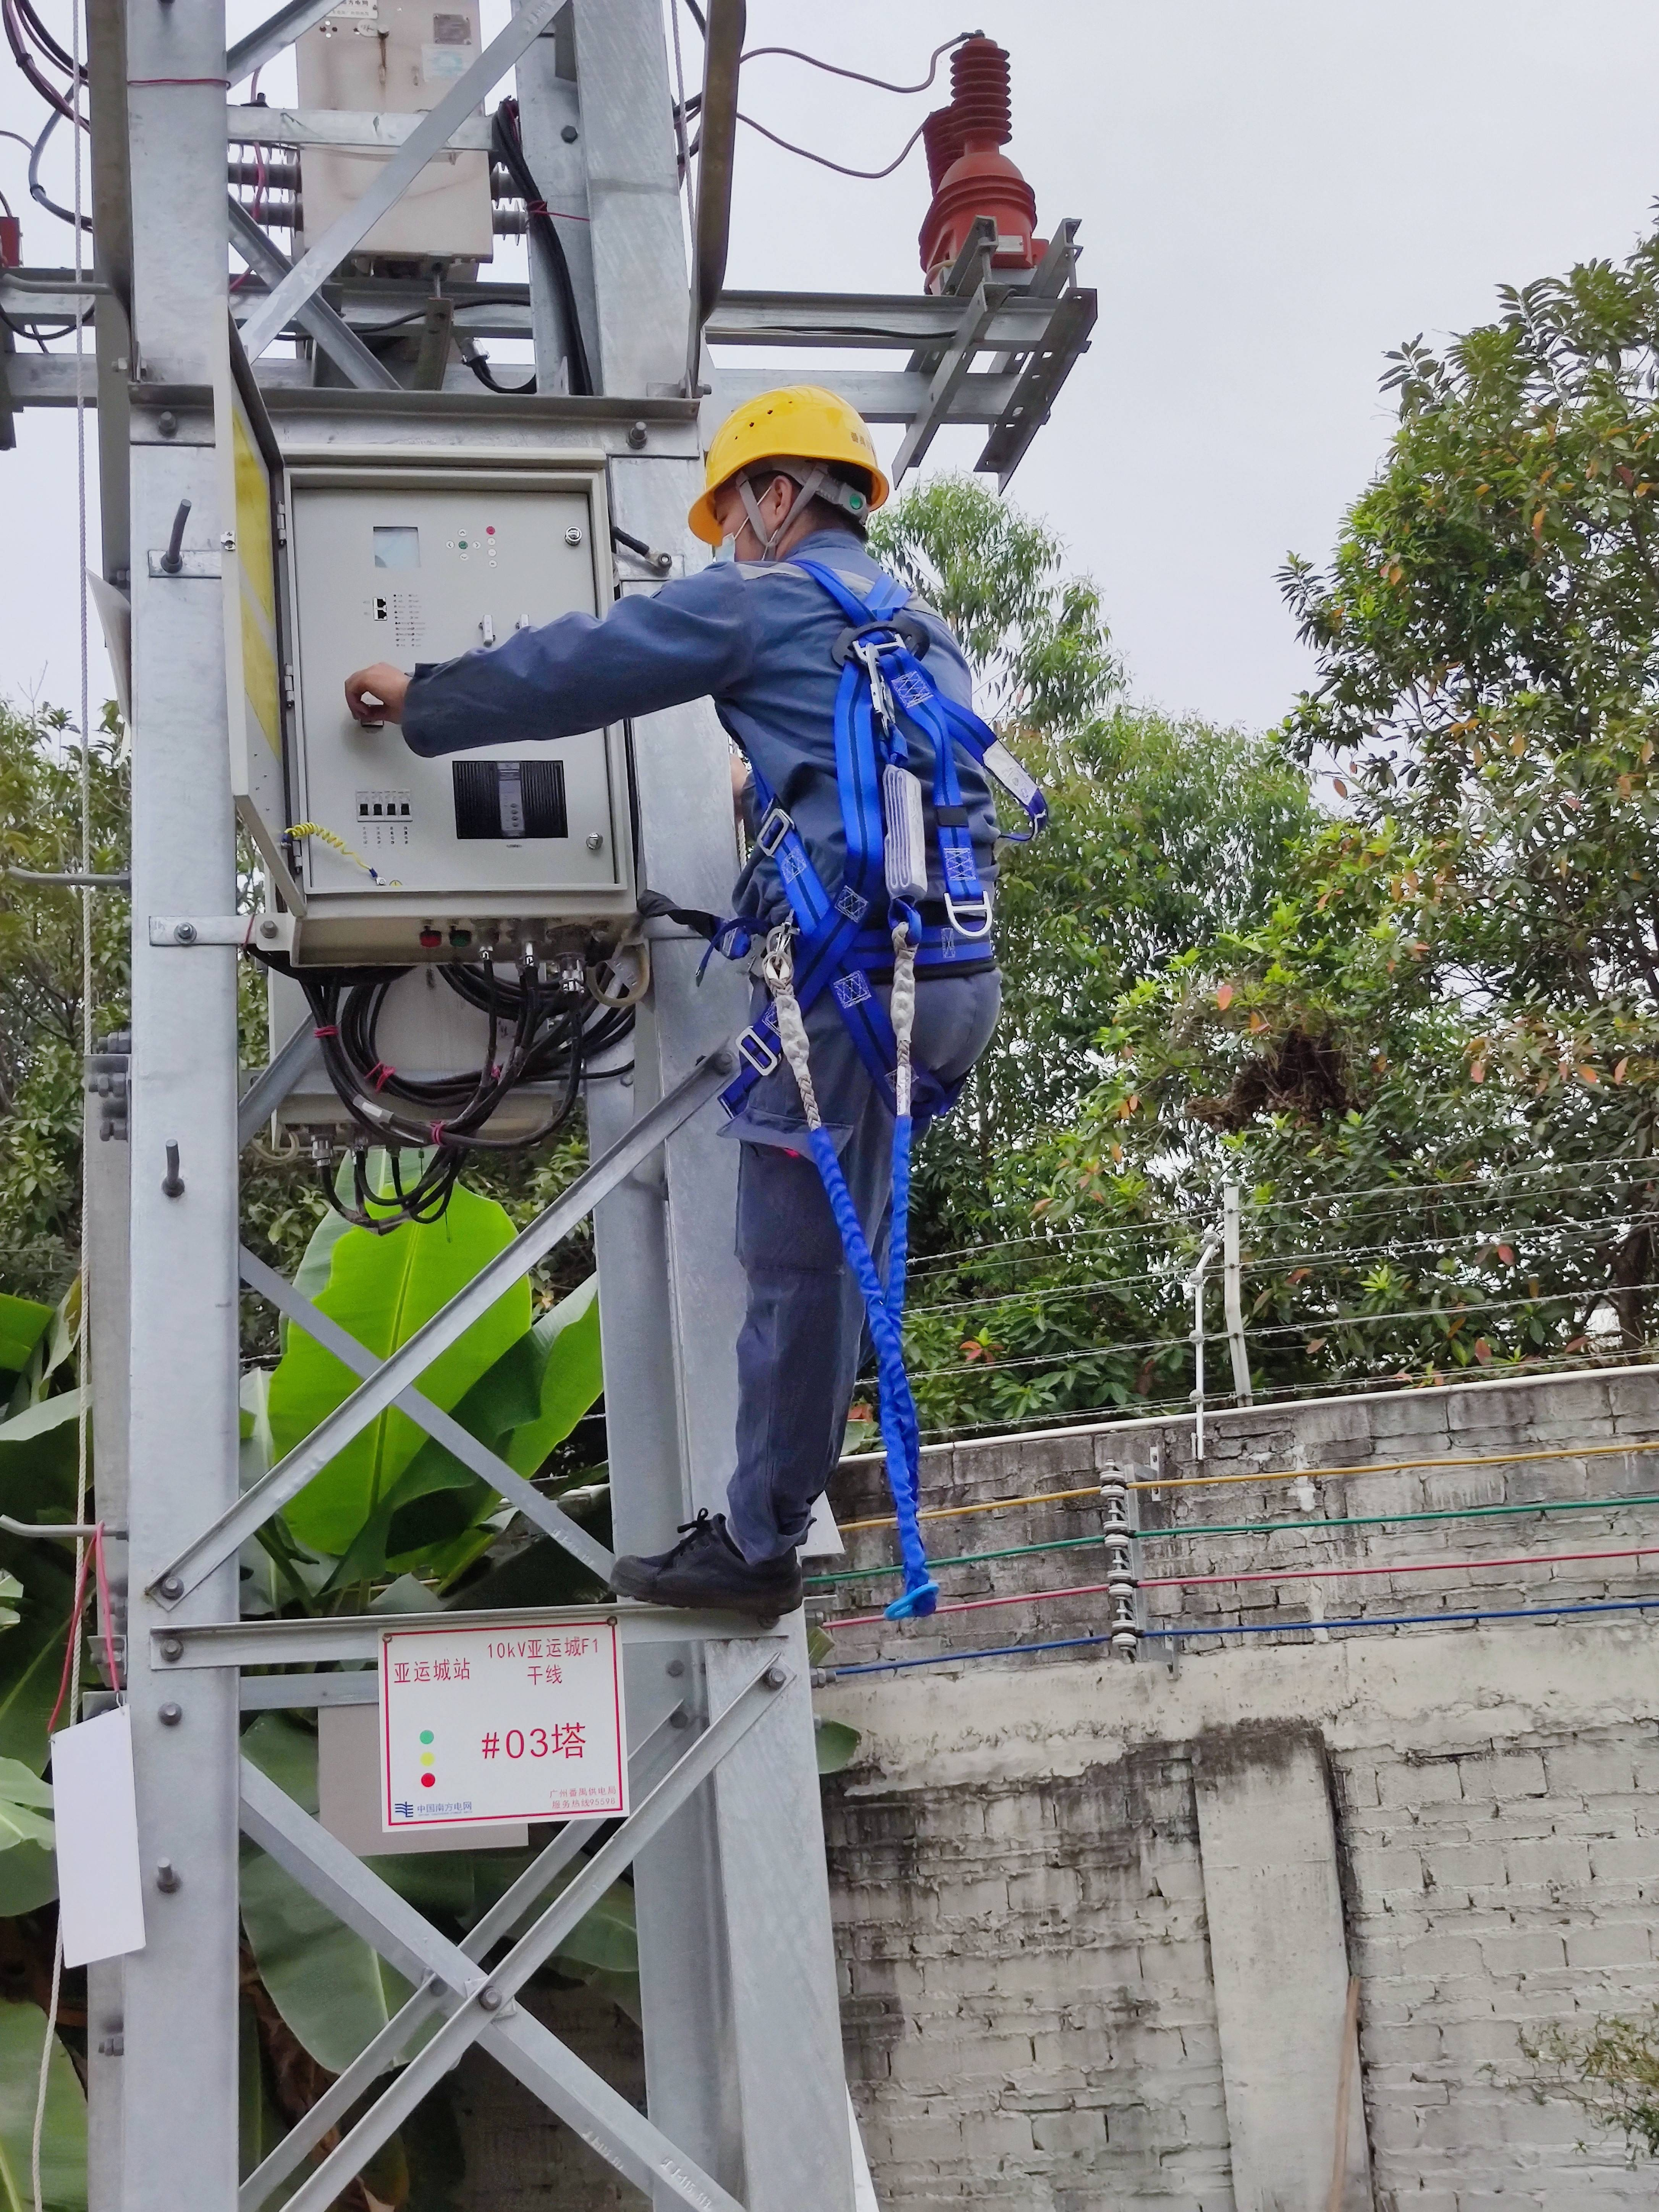downsuit: (737, 975, 1002, 1559)
upsuit: (413, 531, 1007, 921)
